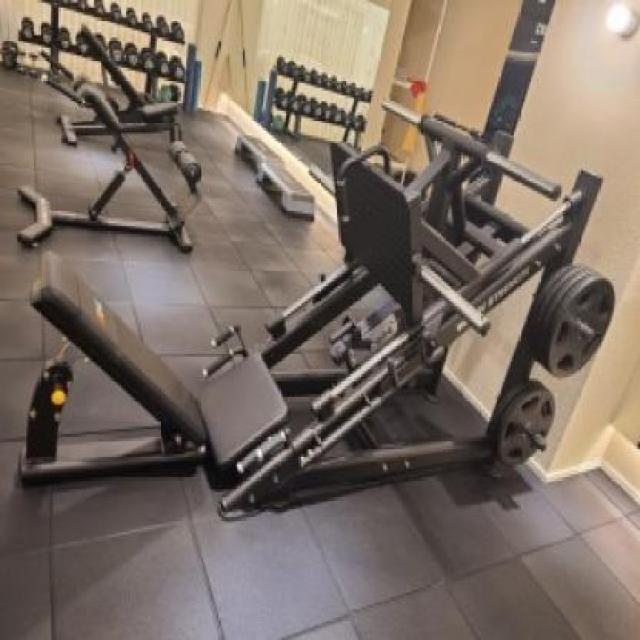leg press: (17, 88, 626, 530)
